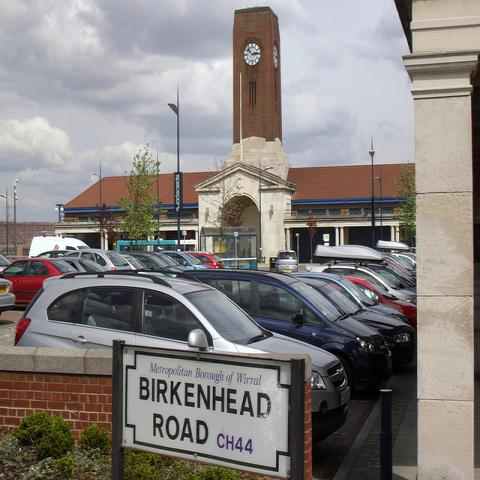car: (13, 272, 354, 450), (47, 238, 406, 313), (184, 273, 392, 393), (288, 272, 416, 368), (299, 272, 412, 326), (0, 257, 79, 305), (350, 263, 417, 295), (58, 248, 133, 270), (126, 250, 186, 273), (110, 247, 146, 271), (60, 256, 110, 272), (0, 277, 16, 317), (274, 250, 298, 273), (389, 253, 416, 271)
truck: (28, 235, 90, 258)
